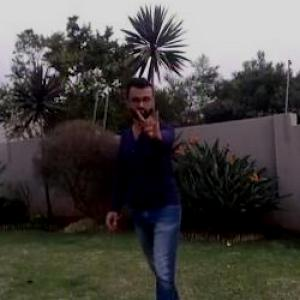takeoff-hand: (134, 100, 170, 142)
